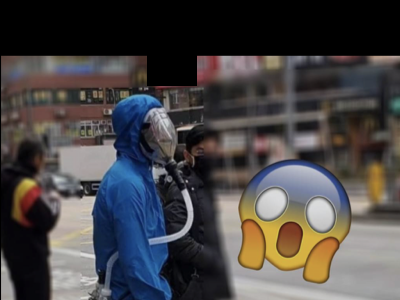with_mask: (145, 120, 179, 164), (190, 143, 221, 180)
